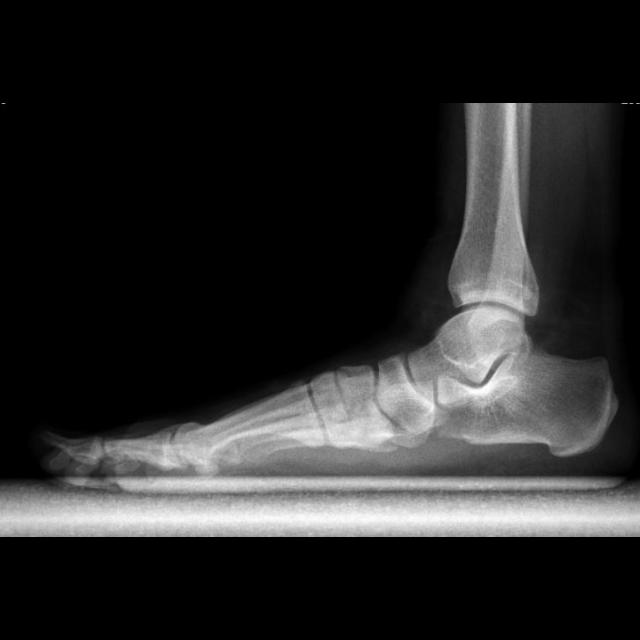a: (436, 349, 612, 455)
b: (380, 352, 451, 434)
c: (172, 388, 324, 465)
